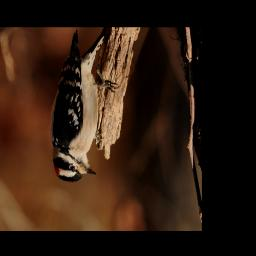Woodpecker: (50, 30, 120, 186)
